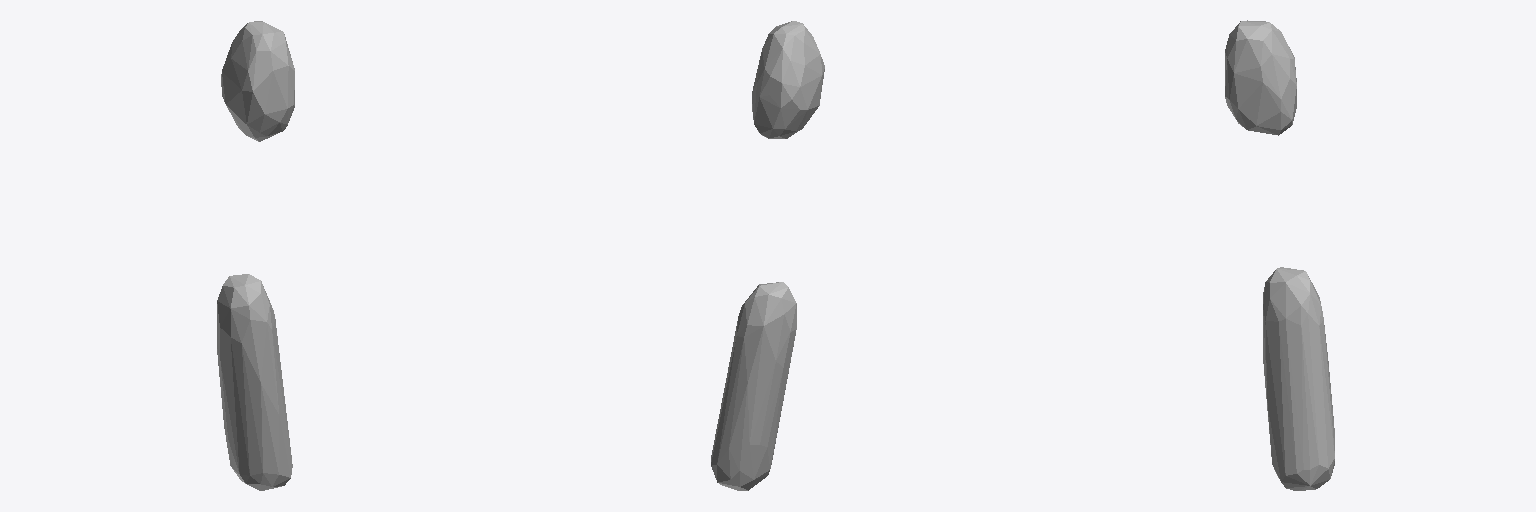
The robot description file, URDF, robot "root":
<robot name="root">
  <link name="link_ycb~031_spoon_convex_piece_0">
    <inertial>
      <origin xyz="0 0 0" rpy="0 0 0"/>
      <mass value="5.37E-02"/>
      <inertia ixx="3.35E-04" ixy="-1.68E-06" ixz="1.40E-05" iyy="3.30E-04" iyz="3.80E-05" izz="8.71E-06"/>
    </inertial>
    <visual>
      <origin xyz="0 0 0" rpy="0 0 0"/>
      <geometry>
        <mesh filename="ycb~031_spoon_convex_piece_0.obj" scale="1.0000E+00 1.0000E+00 1.0000E+00"/>
      </geometry>
      <material name="">
        <color rgba="7.50E-01 7.50E-01 7.50E-01 1"/>
      </material>
    </visual>
    <collision>
      <origin xyz="0 0 0" rpy="0 0 0"/>
      <geometry>
        <mesh filename="ycb~031_spoon_convex_piece_0.obj" scale="1.0000E+00 1.0000E+00 1.0000E+00"/>
      </geometry>
    </collision>
  </link>
  <link name="link_ycb~031_spoon_convex_piece_1">
    <inertial>
      <origin xyz="0 0 0" rpy="0 0 0"/>
      <mass value="1.01E-01"/>
      <inertia ixx="2.59E-04" ixy="-1.90E-06" ixz="1.69E-05" iyy="2.56E-04" iyz="2.73E-05" izz="1.07E-05"/>
    </inertial>
    <visual>
      <origin xyz="0 0 0" rpy="0 0 0"/>
      <geometry>
        <mesh filename="ycb~031_spoon_convex_piece_1.obj" scale="1.0000E+00 1.0000E+00 1.0000E+00"/>
      </geometry>
      <material name="">
        <color rgba="7.50E-01 7.50E-01 7.50E-01 1"/>
      </material>
    </visual>
    <collision>
      <origin xyz="0 0 0" rpy="0 0 0"/>
      <geometry>
        <mesh filename="ycb~031_spoon_convex_piece_1.obj" scale="1.0000E+00 1.0000E+00 1.0000E+00"/>
      </geometry>
    </collision>
  </link>
  <joint name="link_ycb~031_spoon_convex_piece_1_joint" type="fixed">
    <origin xyz="0 0 0" rpy="0 0 0"/>
    <parent link="link_ycb~031_spoon_convex_piece_0"/>
    <child link="link_ycb~031_spoon_convex_piece_1"/>
  </joint>
</robot>

--- What the picture shows (computed from the rendered views, not written in the file) ---
The picture shows the robot from 3 angles, left to right: view 1: azimuth 30°, elevation 25°; view 2: azimuth 150°, elevation 25°; view 3: azimuth 270°, elevation 25°; orthographic projection.
Robot: root — 2 links, 1 joints (1 fixed); root link link_ycb~031_spoon_convex_piece_0; default pose: every joint at zero.
Links seen in each view (by area): view 1: link_ycb~031_spoon_convex_piece_1, link_ycb~031_spoon_convex_piece_0; view 2: link_ycb~031_spoon_convex_piece_1, link_ycb~031_spoon_convex_piece_0; view 3: link_ycb~031_spoon_convex_piece_1, link_ycb~031_spoon_convex_piece_0.
Link boxes in pixels (x1,y1,x2,y2): link_ycb~031_spoon_convex_piece_1: (217, 274, 292, 490); link_ycb~031_spoon_convex_piece_0: (221, 21, 294, 141); link_ycb~031_spoon_convex_piece_1: (711, 282, 796, 490); link_ycb~031_spoon_convex_piece_0: (752, 21, 824, 138); link_ycb~031_spoon_convex_piece_1: (1263, 267, 1334, 490); link_ycb~031_spoon_convex_piece_0: (1225, 20, 1296, 135).
Bounding box of the posed robot: 0.0319 × 0.0411 × 0.1859 m (x, y, z).
2 mesh visuals loaded from 2 distinct referenced files (2 OBJ).